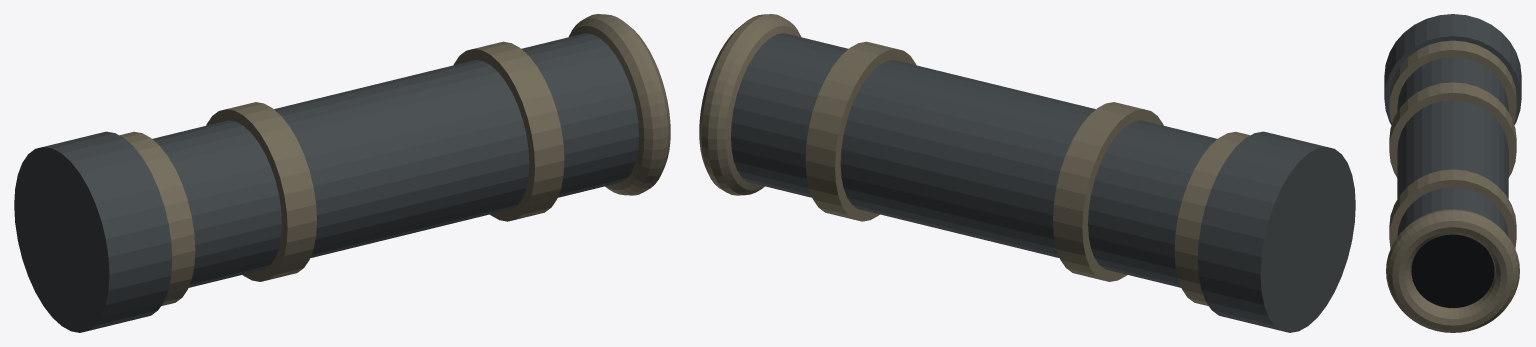
The model's file is cannon.glb.
3 views of the same model, side by side, from view 1: azimuth 30°, elevation 25°; view 2: azimuth 150°, elevation 25°; view 3: azimuth 270°, elevation 25° (orthographic). The views are drawn at different scales.
Visible parts, largest first — view 1: Tubo de ferro, Culatra, Aro reforcado.001, Aro reforcado.002, Boca do canhao, Aro reforcado; view 2: Tubo de ferro, Culatra, Aro reforcado.001, Aro reforcado.002, Boca do canhao, Aro reforcado; view 3: Tubo de ferro, Boca do canhao, Alma escura, Culatra, Aro reforcado.001, Aro reforcado.002, Aro reforcado.
Part boxes in pixels (bbox=[...]): Tubo de ferro: bbox=[152, 33, 638, 287]; Culatra: bbox=[14, 131, 172, 332]; Aro reforcado.001: bbox=[206, 102, 316, 281]; Aro reforcado.002: bbox=[453, 41, 564, 221]; Boca do canhao: bbox=[568, 14, 670, 195]; Aro reforcado: bbox=[120, 131, 195, 306]; Tubo de ferro: bbox=[731, 33, 1217, 287]; Culatra: bbox=[1197, 131, 1355, 332]; Aro reforcado.001: bbox=[1053, 102, 1163, 281]; Aro reforcado.002: bbox=[805, 41, 916, 221]; Boca do canhao: bbox=[699, 14, 801, 195]; Aro reforcado: bbox=[1174, 131, 1249, 306]; Tubo de ferro: bbox=[1397, 57, 1508, 236]; Boca do canhao: bbox=[1386, 209, 1519, 332]; Alma escura: bbox=[1411, 234, 1494, 307]; Culatra: bbox=[1384, 14, 1521, 124]; Aro reforcado.001: bbox=[1389, 82, 1516, 177]; Aro reforcado.002: bbox=[1389, 169, 1516, 248]; Aro reforcado: bbox=[1389, 40, 1516, 123].
Bounding box in the file's own units: 1.45 × 0.42 × 0.42.
